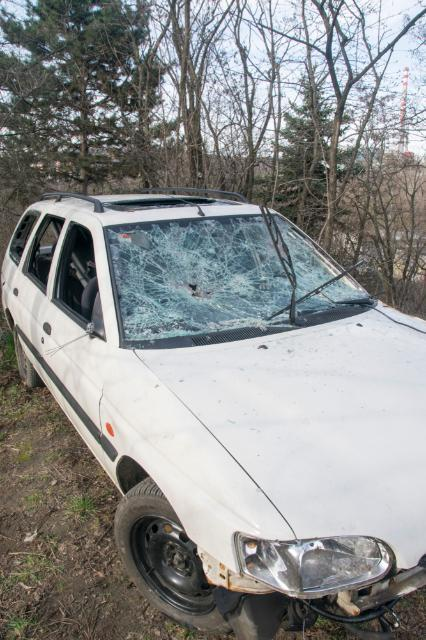glass shatter: (105, 216, 363, 340)
no part: (206, 554, 426, 640), (51, 224, 109, 340), (24, 211, 64, 287), (3, 211, 39, 258)
